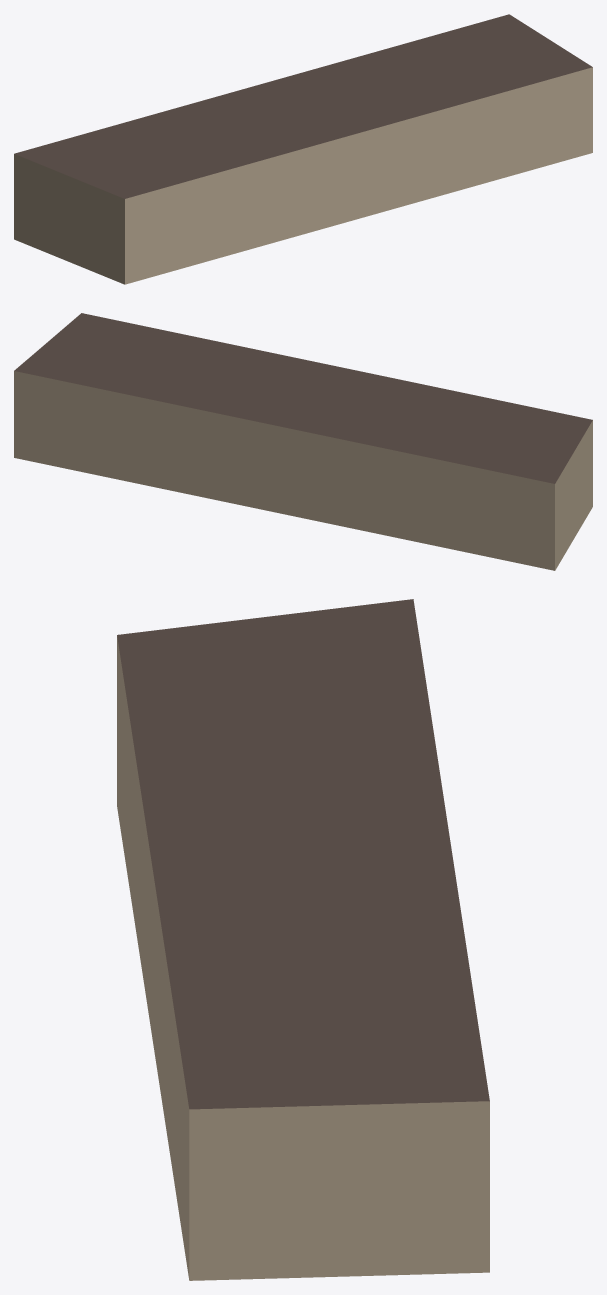
3 renders of one model, top to bottom at view 1: azimuth 30°, elevation 25°; view 2: azimuth 150°, elevation 25°; view 3: azimuth 270°, elevation 25°, orthographic. The views are drawn at different scales.
Parts seen in each view (by area): view 1: HP-w859424194; view 2: HP-w859424194; view 3: HP-w859424194.
Part boxes in pixels (x1,y1,x2,y2): HP-w859424194: [14, 14, 592, 284]; HP-w859424194: [14, 313, 592, 570]; HP-w859424194: [117, 599, 489, 1280].
Bounding box in the file's own units: 57.46 × 9 × 17.74.
